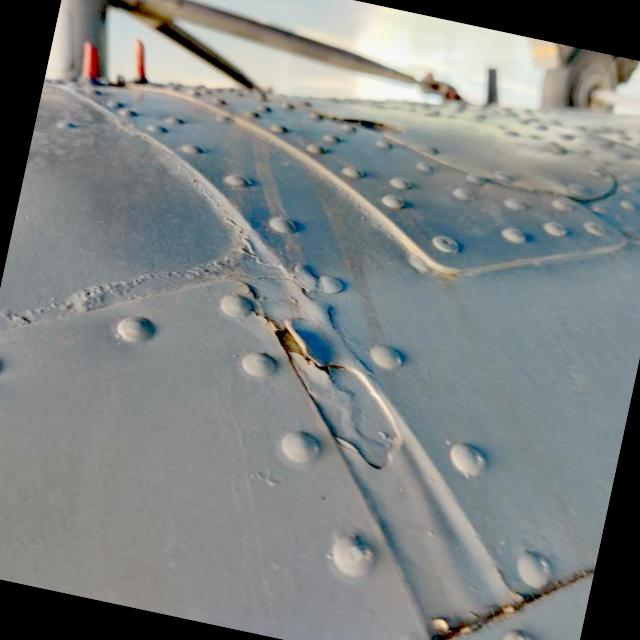crack: (240, 294, 368, 390)
